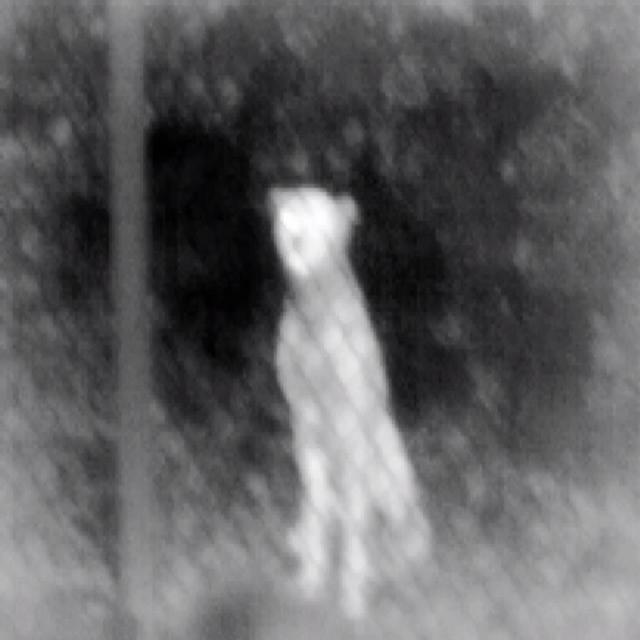cheetah: (270, 188, 428, 617)
